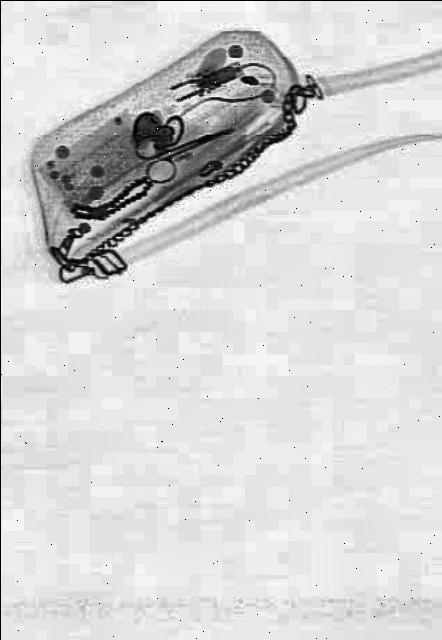Scissors: (134, 105, 240, 193)
